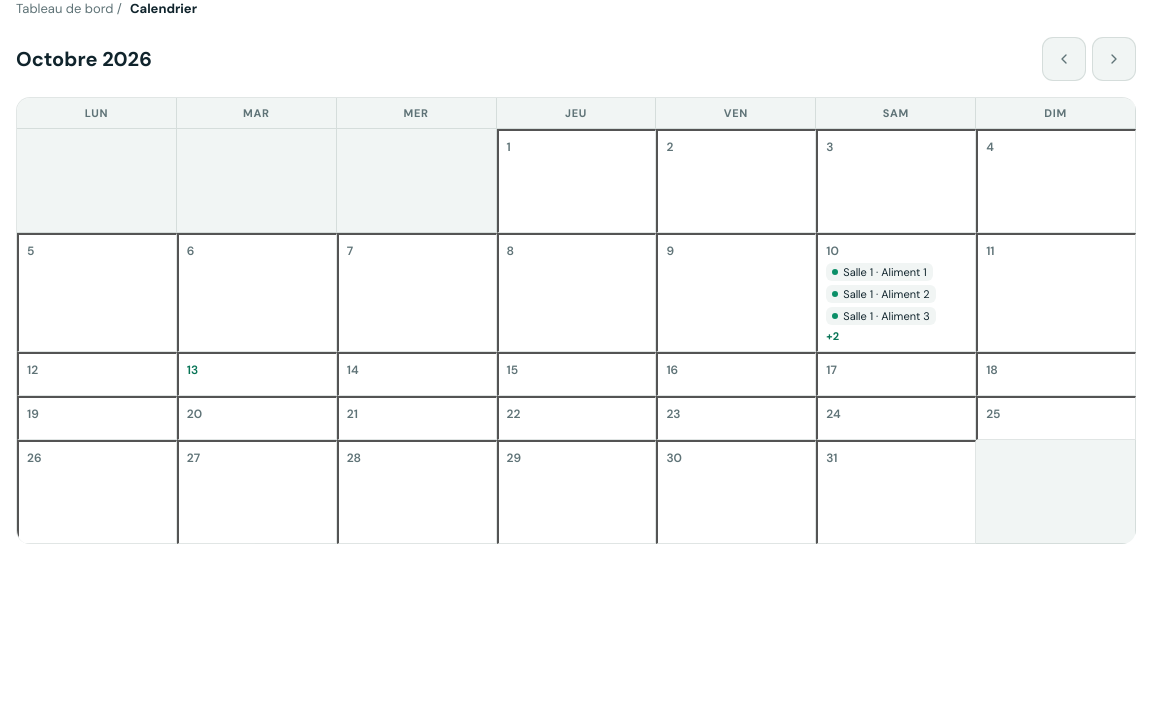
Scenario: CalendarPage › opening a day fetches and lists all of its tasks
Step 1. Click the button "Aliment 1" → [896, 292], box [816,233,976,352]
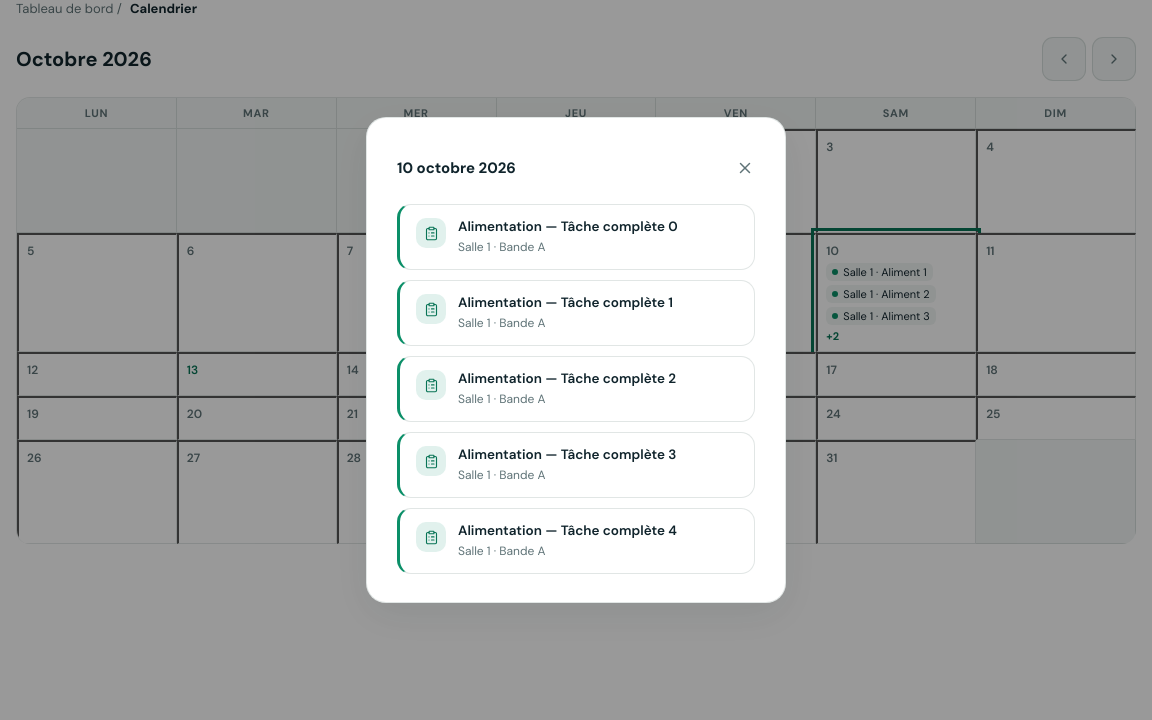
Expected: the text "Alimentation — Tâche complète 4" is shown, [458,522,677,539]
Expected: the text "Alimentation — Tâche complète 0" is shown 5 times, [458,218,678,235]; [458,294,673,311]; [458,370,676,387]; [458,446,676,463]; [458,522,677,539]
